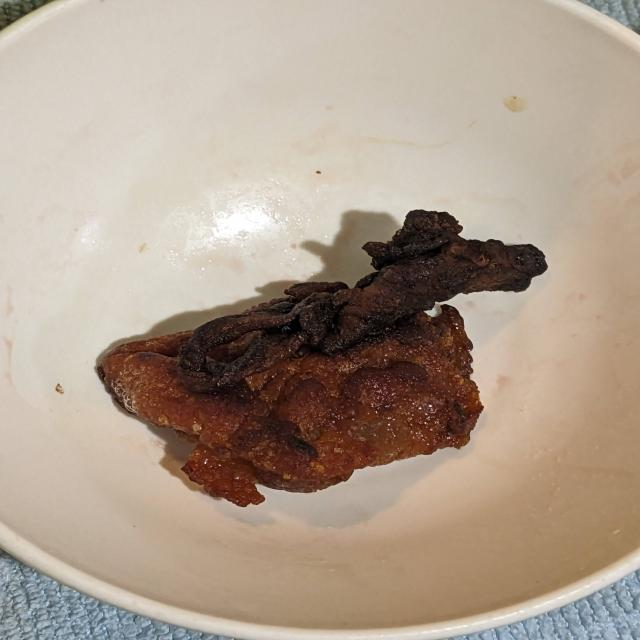overcooked pork: (69, 208, 560, 516)
